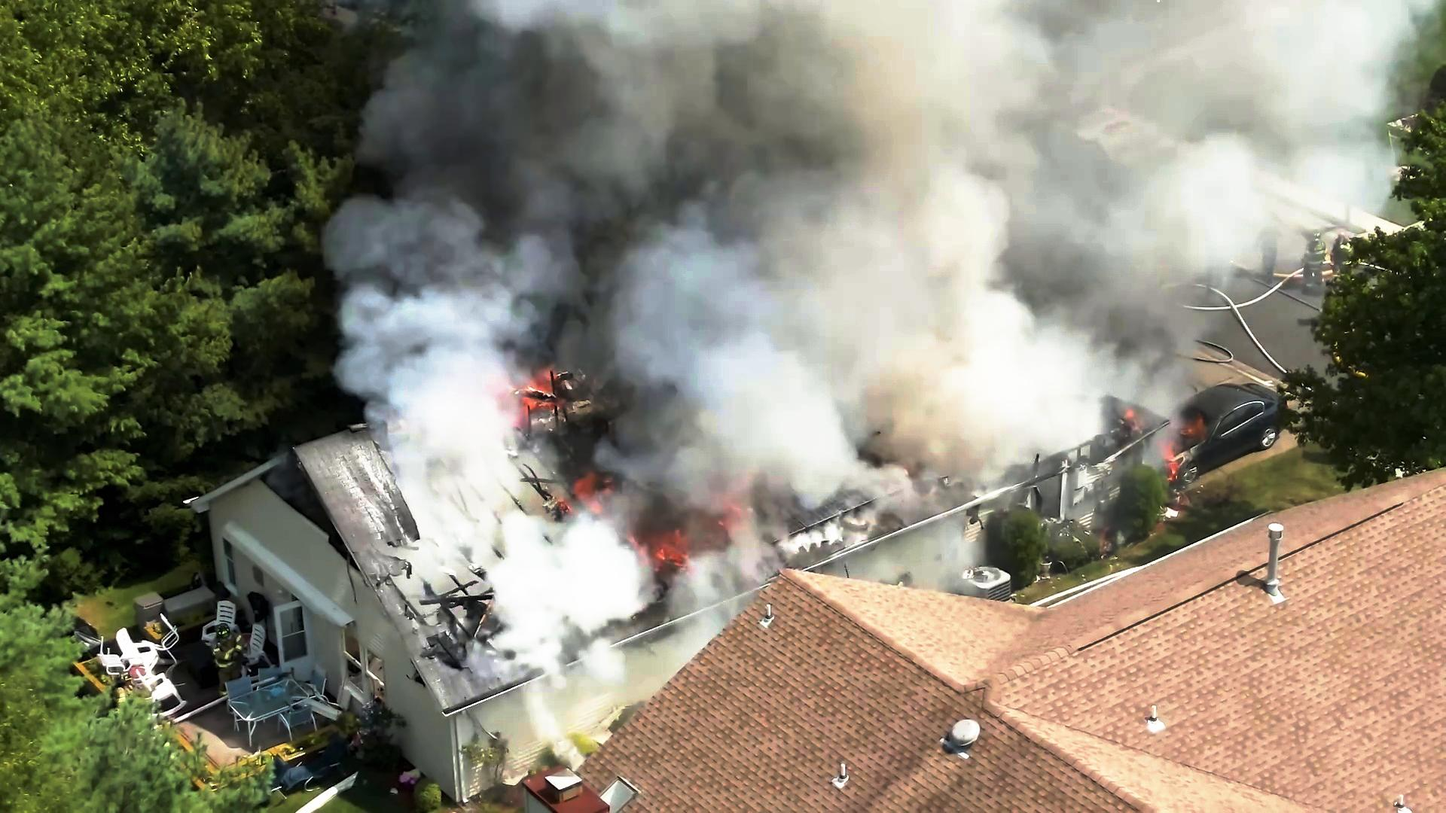smoke: (633, 140, 989, 470), (371, 0, 799, 232), (901, 0, 1307, 217), (354, 229, 552, 539)
